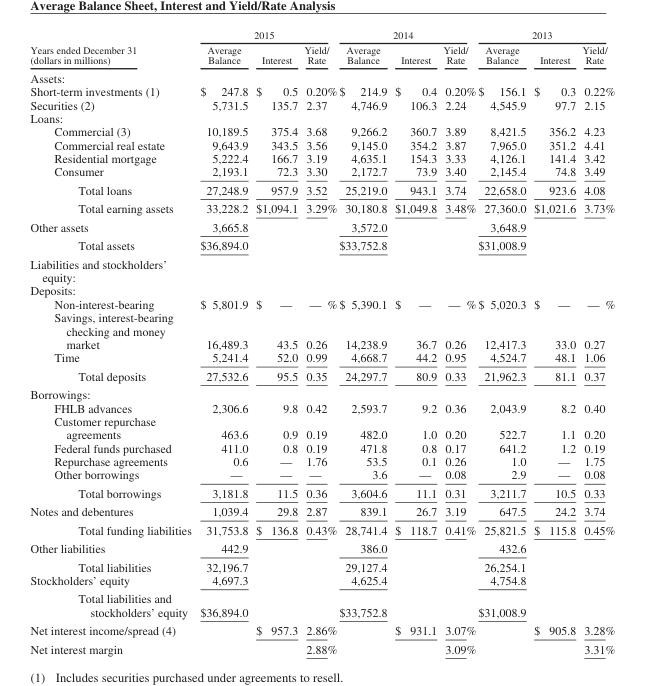table: (29, 29, 614, 655)
table column: (29, 29, 195, 655), (195, 29, 251, 655), (337, 29, 390, 655), (476, 29, 529, 655), (251, 29, 300, 655), (390, 29, 439, 655), (529, 29, 578, 655), (300, 29, 337, 655), (439, 29, 476, 655), (578, 29, 614, 655)
table column header: (29, 29, 614, 68)
table projected row header: (29, 254, 614, 283), (29, 68, 614, 84), (29, 384, 614, 400), (29, 283, 614, 297), (29, 111, 614, 124)
table row: (29, 310, 614, 350), (29, 589, 614, 620), (29, 254, 614, 283), (29, 42, 614, 68), (29, 414, 614, 440), (29, 180, 614, 199), (29, 235, 614, 254), (29, 483, 614, 502), (29, 538, 614, 557), (29, 620, 614, 639), (29, 199, 614, 217), (29, 217, 614, 235), (29, 366, 614, 384), (29, 502, 614, 520), (29, 520, 614, 538), (29, 68, 614, 84), (29, 164, 614, 180), (29, 350, 614, 366), (29, 384, 614, 400), (29, 467, 614, 483), (29, 557, 614, 573), (29, 573, 614, 589), (29, 639, 614, 655), (29, 97, 614, 111), (29, 137, 614, 151), (29, 283, 614, 297), (29, 400, 614, 414), (29, 440, 614, 454), (29, 29, 614, 42), (29, 84, 614, 97), (29, 111, 614, 124), (29, 124, 614, 137), (29, 151, 614, 164), (29, 297, 614, 310), (29, 454, 614, 467)
table spanning cell: (29, 29, 195, 68), (195, 29, 337, 42), (337, 29, 476, 42), (476, 29, 614, 42)
